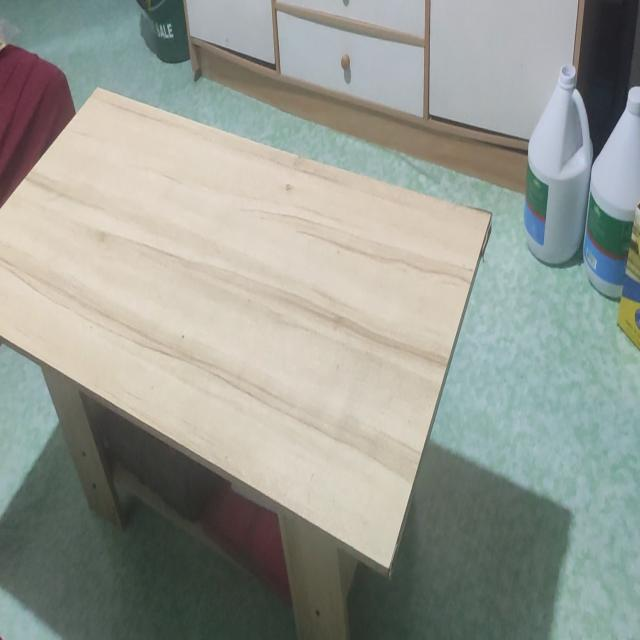table: (0, 82, 494, 640)
